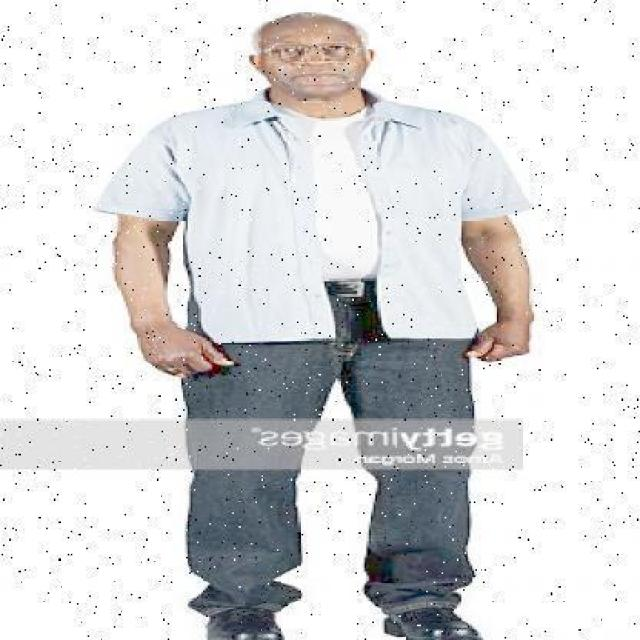person: (108, 11, 537, 640)
